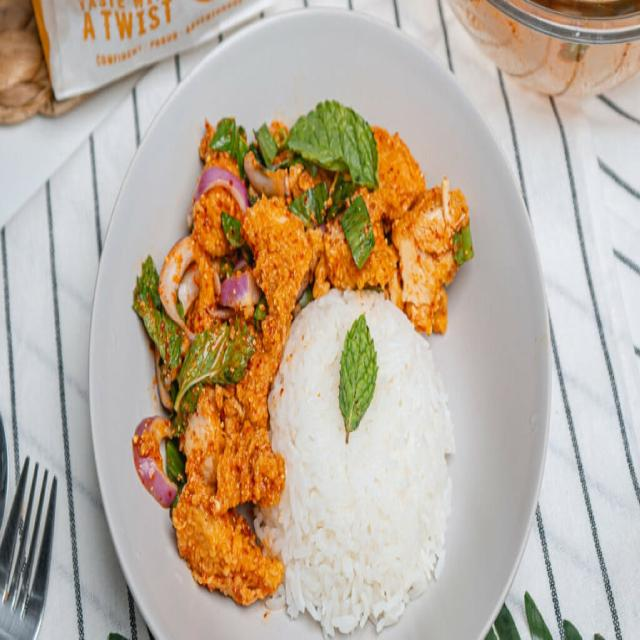carb: (280, 294, 446, 623)
meat: (172, 109, 476, 291), (182, 374, 276, 609)
spicy chicken rice salad: (135, 109, 502, 609)
vegetable: (141, 277, 233, 393), (294, 100, 376, 218)
